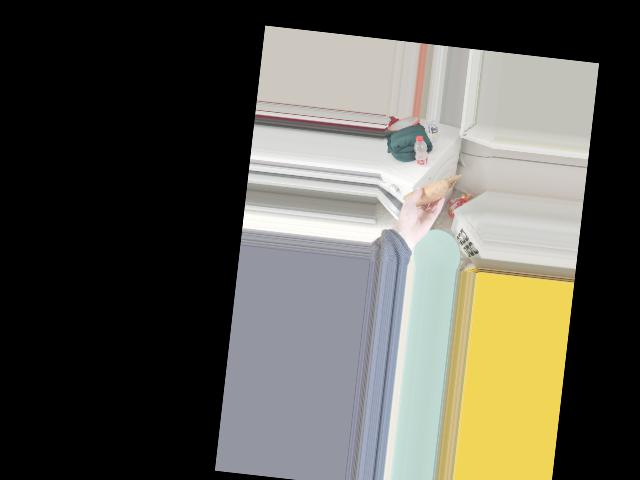sweet_potato: (411, 178, 447, 208)
